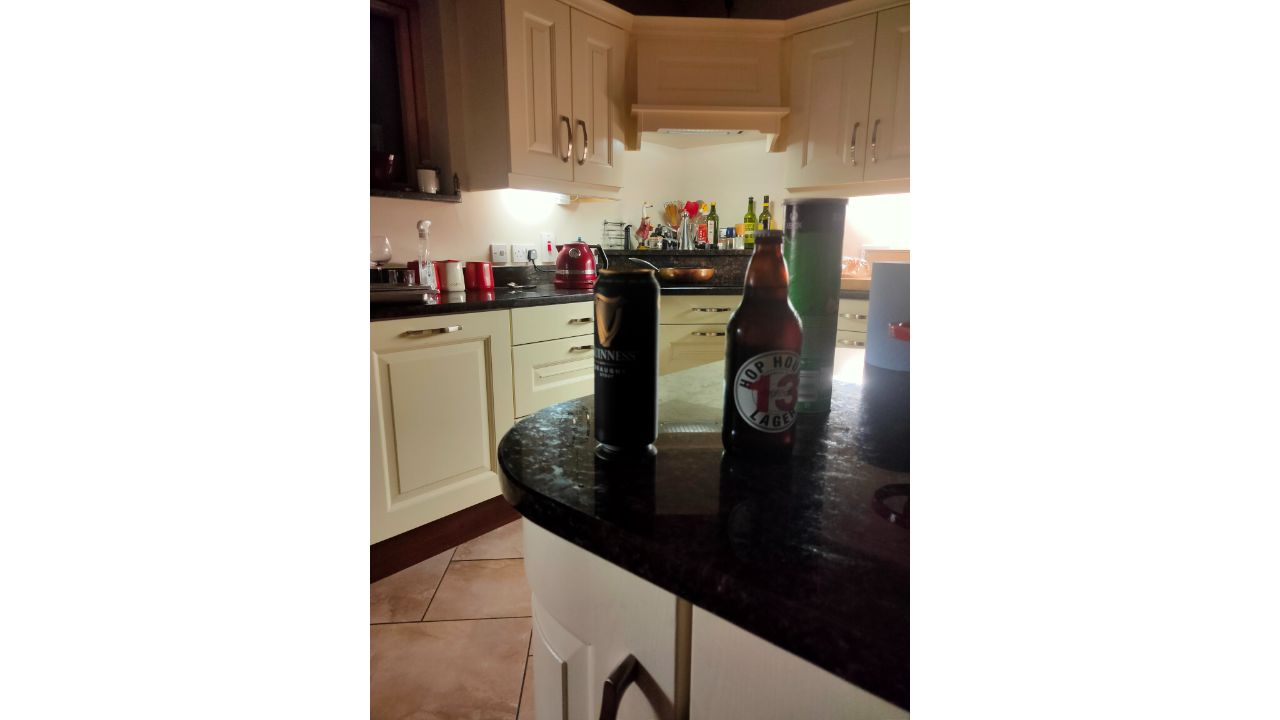Can: (591, 269, 662, 452)
